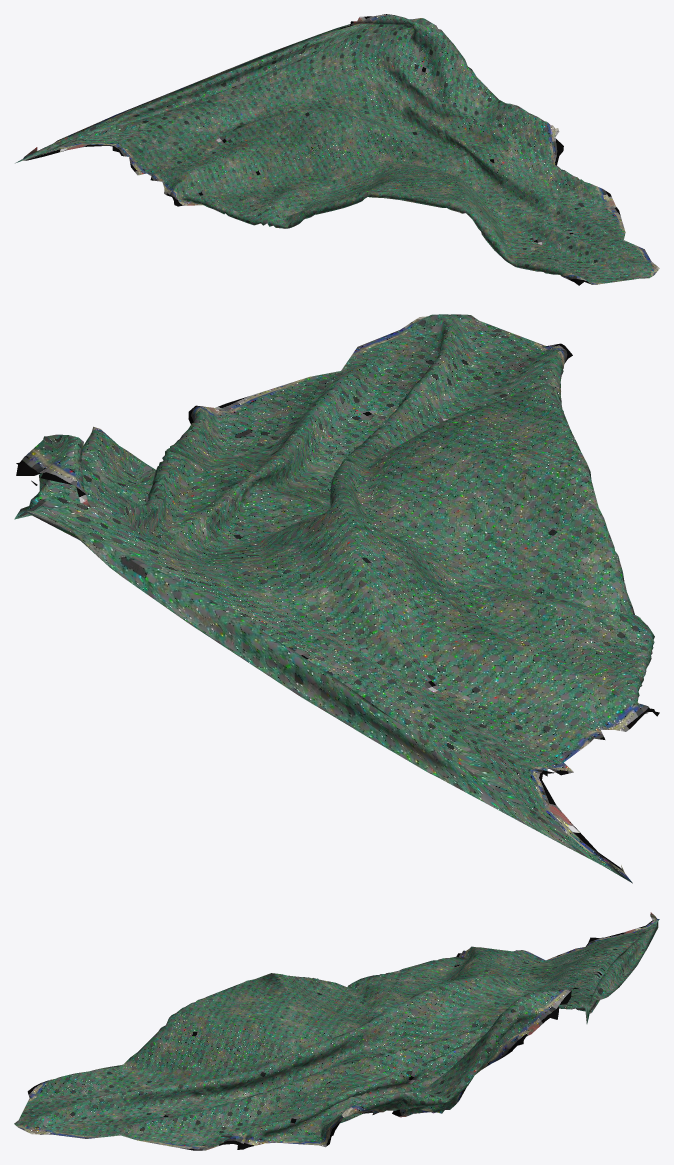
Rendered from divesite_fishing_net_square.glb.
3 views of the same model, one above another, from view 1: azimuth 30°, elevation 25°; view 2: azimuth 150°, elevation 25°; view 3: azimuth 270°, elevation 25° (orthographic). The views are drawn at different scales.
Parts seen in each view (by area): view 1: divesite_fishing_net_square; view 2: divesite_fishing_net_square; view 3: divesite_fishing_net_square.
Part boxes in pixels (bbox=[...]): divesite_fishing_net_square: bbox=[15, 14, 659, 285]; divesite_fishing_net_square: bbox=[14, 314, 659, 883]; divesite_fishing_net_square: bbox=[14, 912, 659, 1150].
Size of the model in its own units: 7.71 by 1.83 by 8.98.
1 material, 1 textured.
